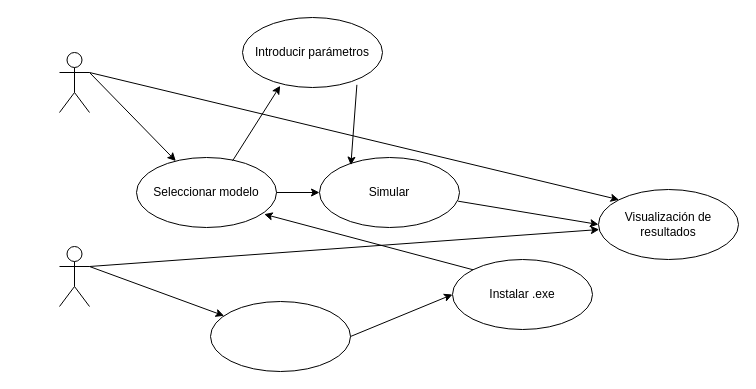
Image size: 756x389. Some labels were removed from this diagram. Each missing label, with the centre of its shape:
"Instalar RunTimes" belongs at (280,336).
"Usuario con MATLAB" belongs at (74,82).
"Usuario sin MATLAB" belongs at (74,276).
